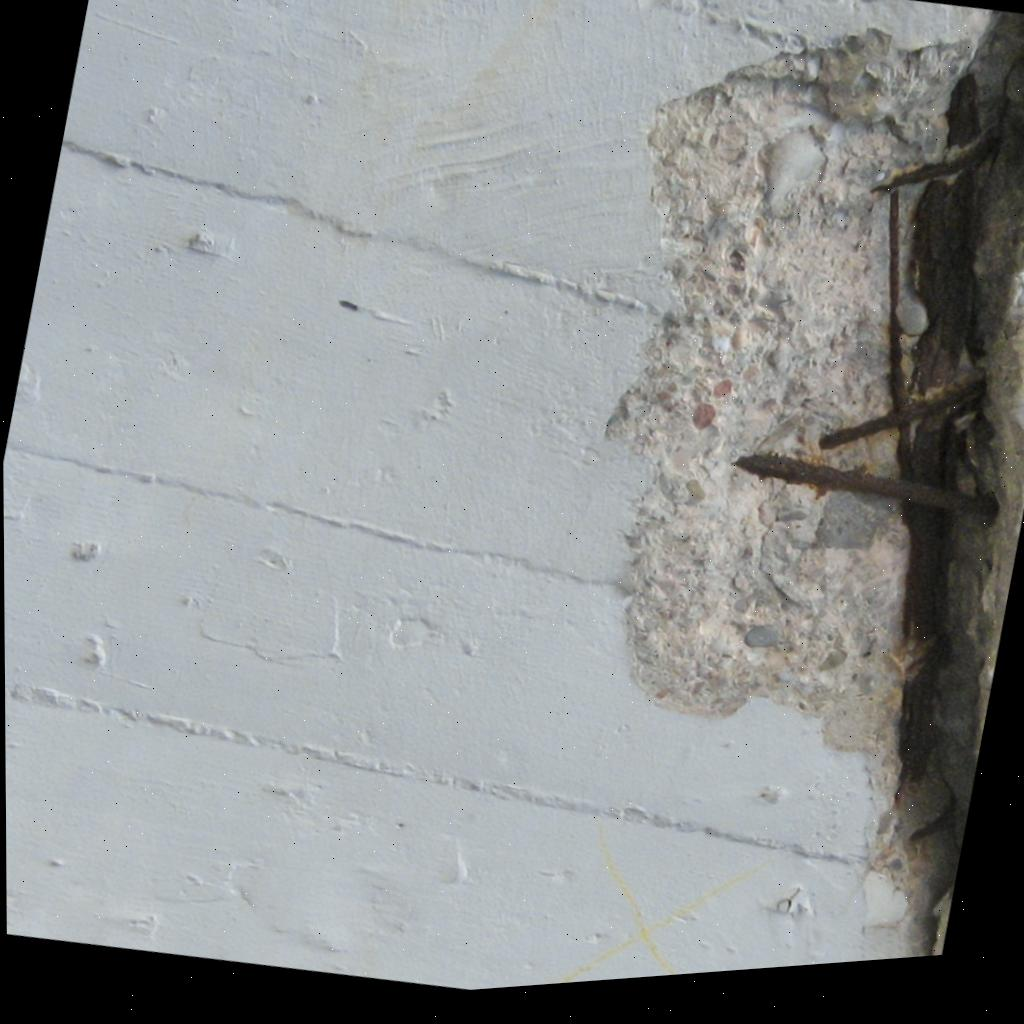exposed_rebar: (819, 132, 995, 449), (735, 454, 999, 516)
spalling: (607, 11, 1024, 957)
